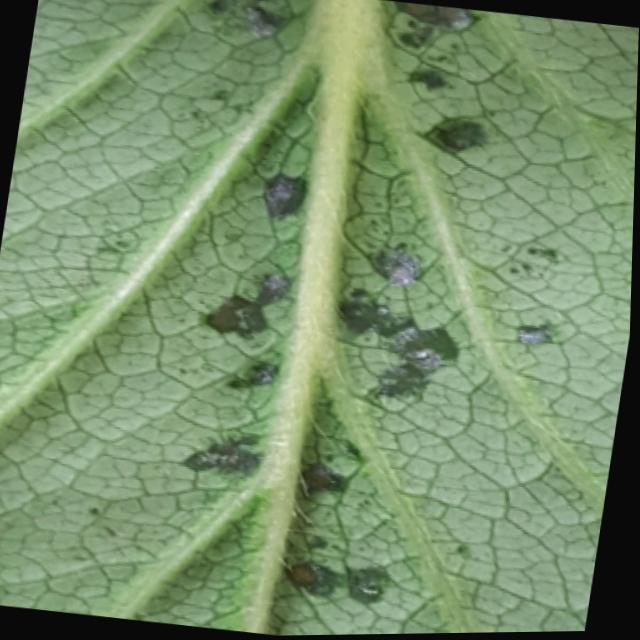Angular Leafspot: (78, 0, 572, 637)
